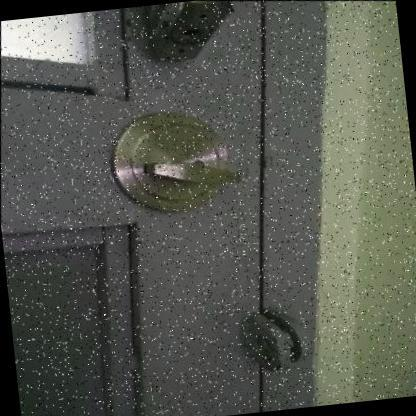lock: (79, 82, 295, 242)
